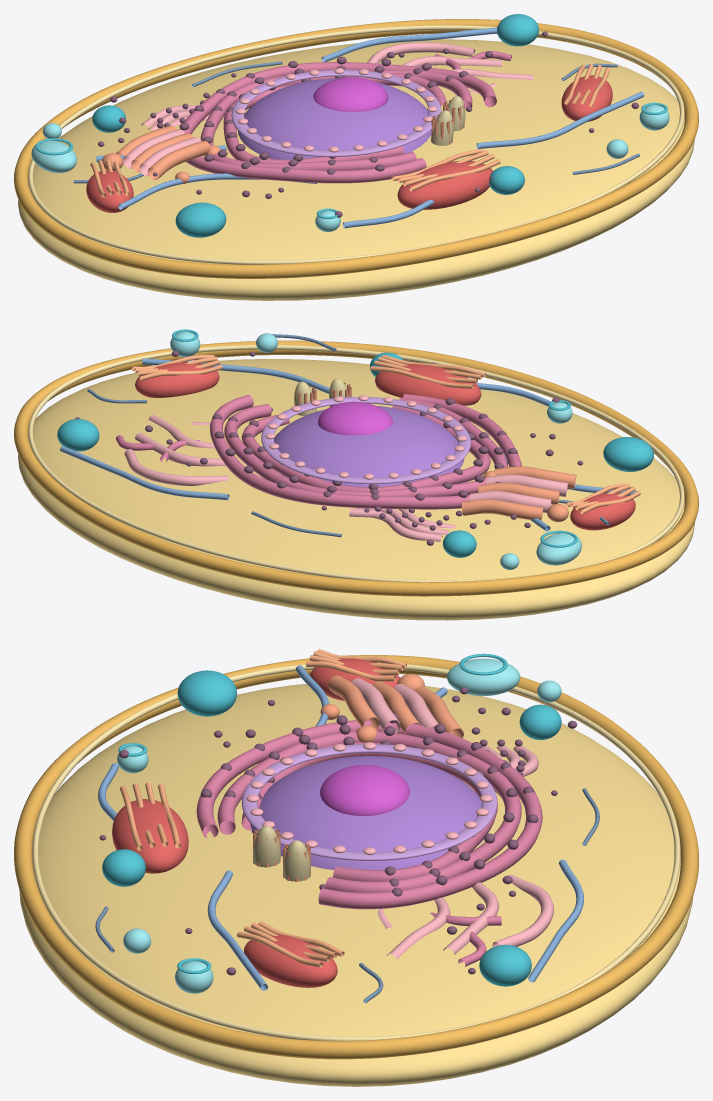
The model's file is cell.glb.
3 renders of one model, top to bottom at view 1: azimuth 30°, elevation 25°; view 2: azimuth 150°, elevation 25°; view 3: azimuth 270°, elevation 25°, orthographic. The views are drawn at different scales.
Parts seen in each view (by area): view 1: Cell body | cytoplasm, Continuous plasma membrane, Nucleus, Inner membrane highlight, Rough ER folded cisterna.002, Rough ER folded cisterna.001, Nuclear envelope rim, Mitochondrion A, Nucleolus, Rough ER folded cisterna, Lysosome, Mitochondrion B (+20 smaller); view 2: Cell body | cytoplasm, Continuous plasma membrane, Nucleus, Inner membrane highlight, Rough ER folded cisterna.002, Rough ER folded cisterna.001, Nuclear envelope rim, Rough ER folded cisterna, Mitochondrion A, Nucleolus, Mitochondrion B, Mitochondrion C (+19 smaller); view 3: Cell body | cytoplasm, Continuous plasma membrane, Nucleus, Rough ER folded cisterna.002, Inner membrane highlight, Rough ER folded cisterna.001, Nuclear envelope rim, Nucleolus, Mitochondrion A, Rough ER folded cisterna, Mitochondrion B, Lysosome (+18 smaller).
Part boxes in pixels (<box>): Cell body | cytoplasm: <box>18,39,694,300</box>; Continuous plasma membrane: <box>14,19,698,278</box>; Nucleus: <box>238,78,431,159</box>; Inner membrane highlight: <box>28,25,684,264</box>; Rough ER folded cisterna.002: <box>179,62,496,183</box>; Rough ER folded cisterna.001: <box>200,69,472,170</box>; Nuclear envelope rim: <box>231,69,441,156</box>; Mitochondrion A: <box>397,161,492,209</box>; Nucleolus: <box>313,77,388,111</box>; Rough ER folded cisterna: <box>223,73,447,162</box>; Lysosome: <box>175,202,226,237</box>; Mitochondrion B: <box>561,75,612,121</box>; Cell body | cytoplasm: <box>18,359,694,620</box>; Continuous plasma membrane: <box>14,340,698,596</box>; Nucleus: <box>274,406,464,486</box>; Inner membrane highlight: <box>28,345,684,582</box>; Rough ER folded cisterna.002: <box>210,394,521,509</box>; Rough ER folded cisterna.001: <box>224,397,507,496</box>; Nuclear envelope rim: <box>261,397,471,483</box>; Rough ER folded cisterna: <box>241,405,490,490</box>; Mitochondrion A: <box>375,364,481,405</box>; Nucleolus: <box>318,401,392,435</box>; Mitochondrion B: <box>135,362,219,397</box>; Mitochondrion C: <box>570,492,635,530</box>; Cell body | cytoplasm: <box>19,684,692,1086</box>; Continuous plasma membrane: <box>14,655,698,1059</box>; Nucleus: <box>250,756,483,870</box>; Rough ER folded cisterna.002: <box>196,719,542,909</box>; Inner membrane highlight: <box>32,662,680,1040</box>; Rough ER folded cisterna.001: <box>217,731,521,892</box>; Nuclear envelope rim: <box>241,744,497,860</box>; Nucleolus: <box>320,764,409,816</box>; Mitochondrion A: <box>112,799,188,873</box>; Rough ER folded cisterna: <box>241,742,497,881</box>; Mitochondrion B: <box>243,934,337,987</box>; Lysosome: <box>177,670,237,716</box>.
Size of what is drawn, in the model's own units: 10.61 by 2.09 by 7.81.
